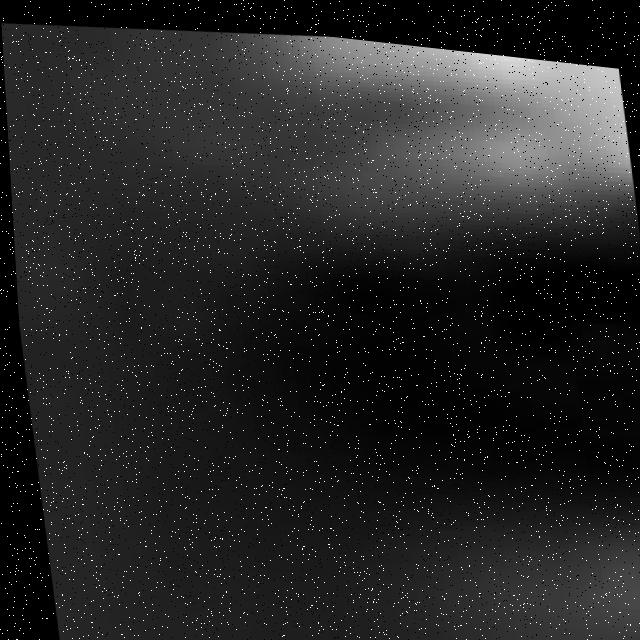person: (210, 19, 637, 222)
